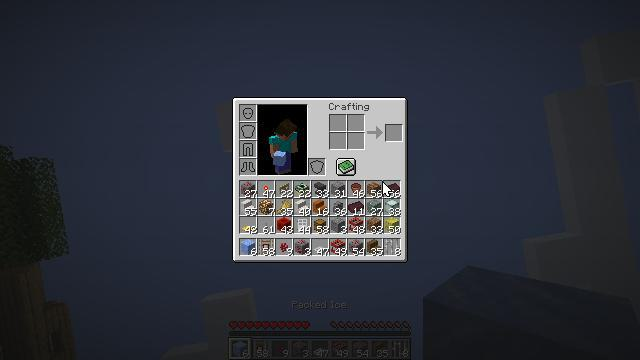cursor: (382, 181, 392, 197)
